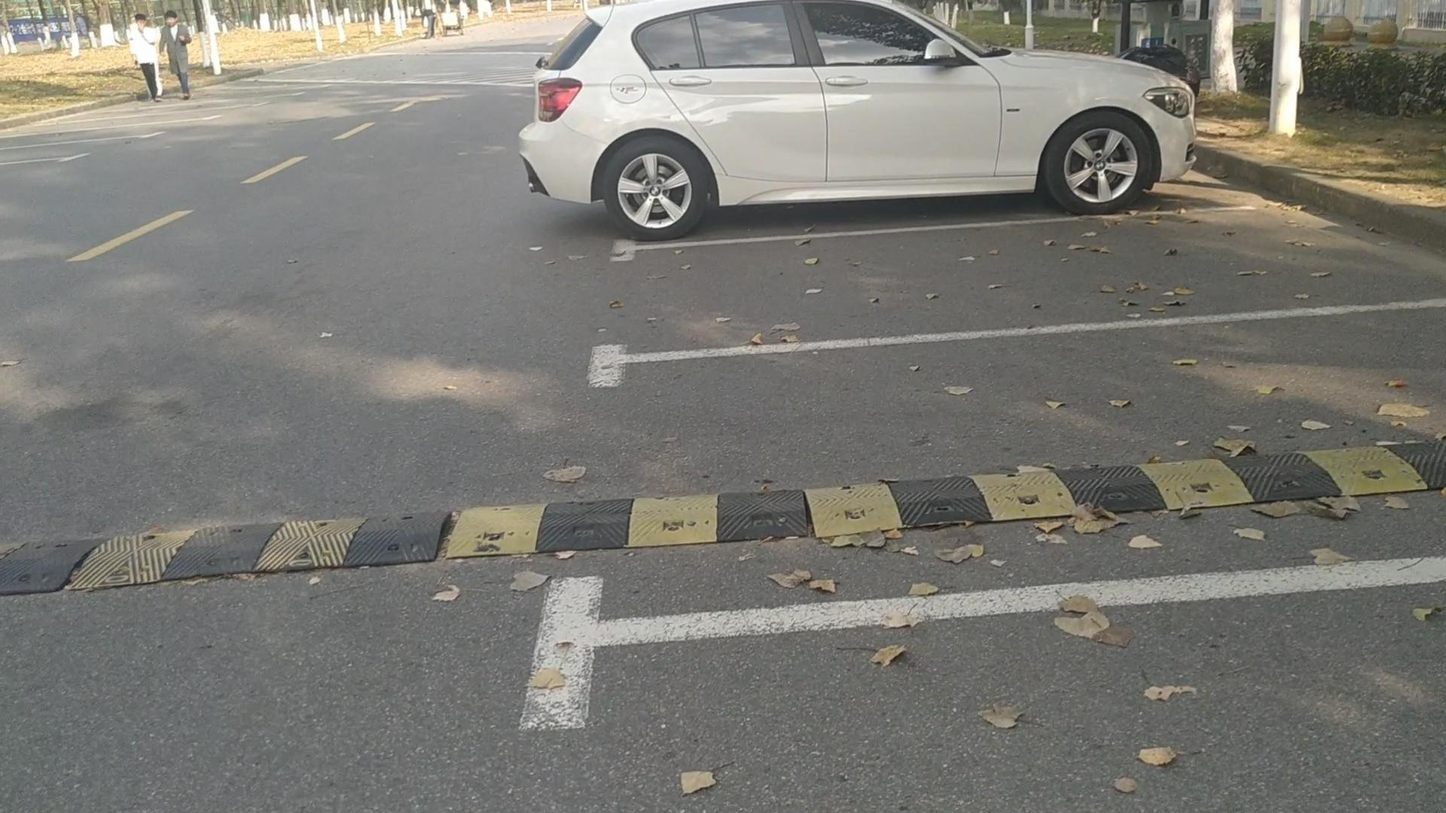car: (515, 1, 1200, 240)
